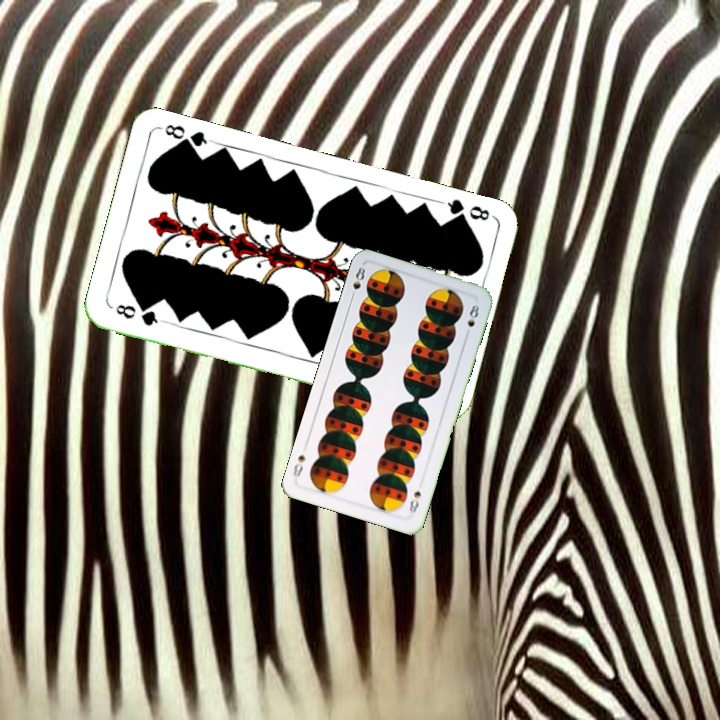G8: (437, 195, 495, 227), (111, 300, 167, 329)
S8: (347, 263, 368, 302), (405, 487, 423, 516)
